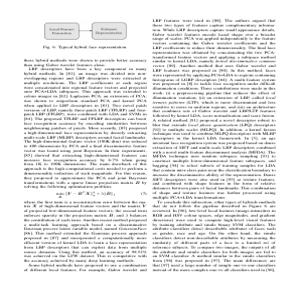diagram: (39, 17, 133, 43)
text: (151, 14, 281, 277), (22, 55, 150, 273)
